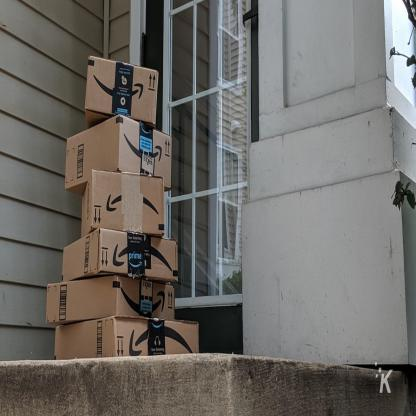package: (62, 121, 173, 189), (54, 319, 204, 365), (58, 227, 181, 281), (76, 172, 165, 242), (44, 277, 178, 321), (82, 53, 156, 126)
